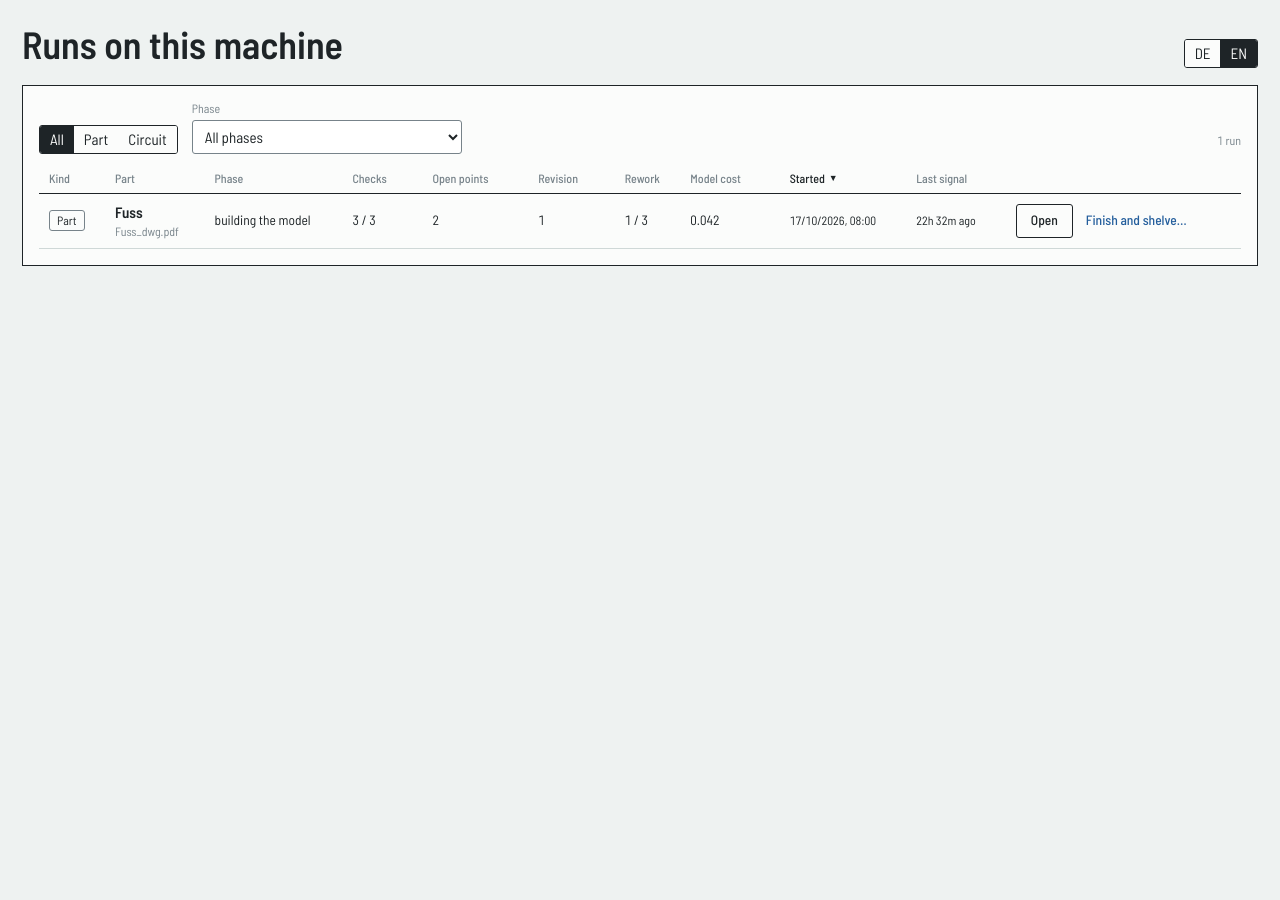
Test case: RunTable on the host: finish and shelve (#52) › does nothing on cancel and shows why shelving failed
Step 1. Click the button with aria-label "Finish and shelve ses-fixture0001" → (1136, 221), box 1079,207 -> 1194,235
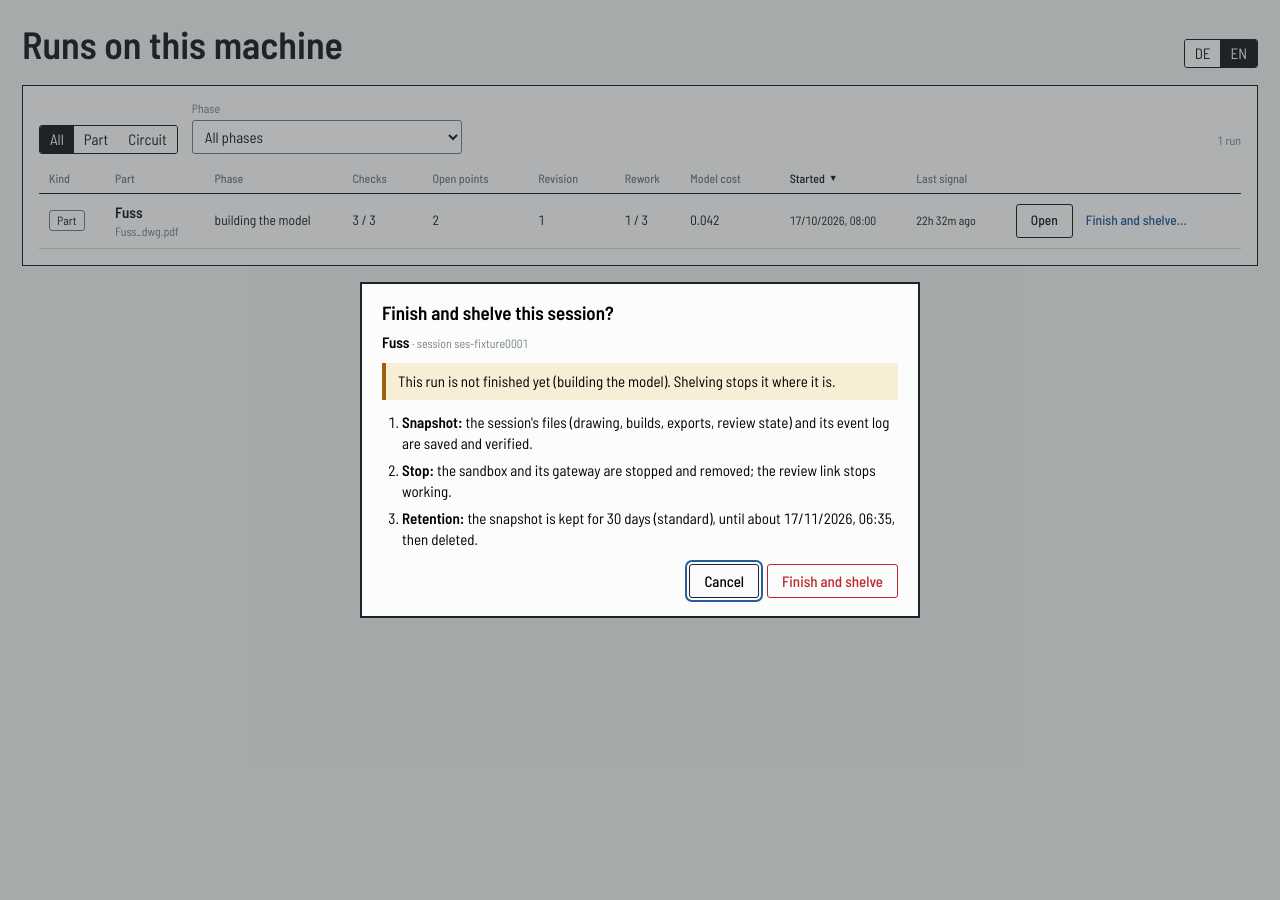
Now the text "This run is not finished yet (building the model). Shelving stops it where it is." is shown, box 398,372 -> 835,390
Step 2. Click the button "Cancel" → (724, 581), box 689,564 -> 759,598
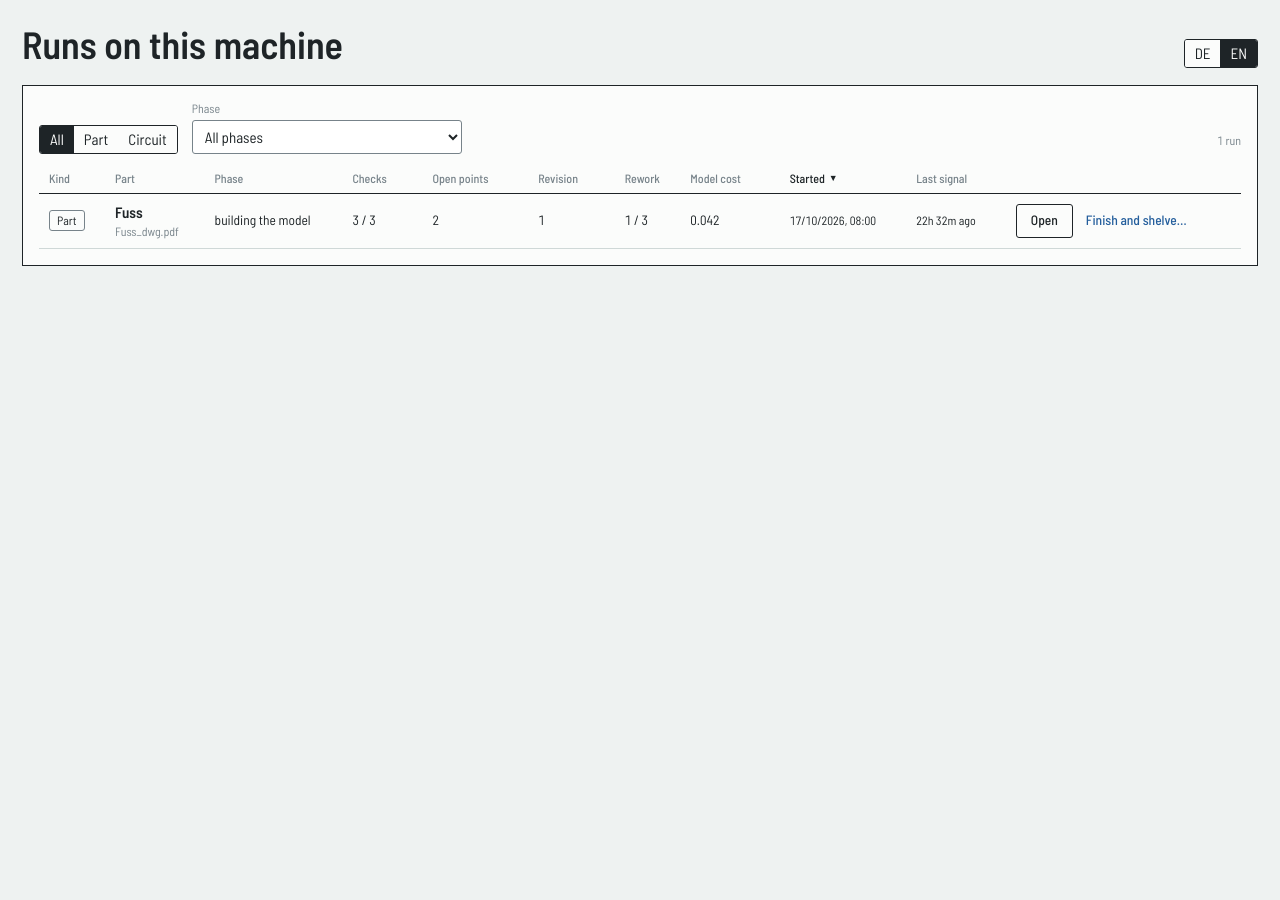
Step 3. Click the button with aria-label "Finish and shelve ses-fixture0001" → (1136, 221), box 1079,207 -> 1194,235
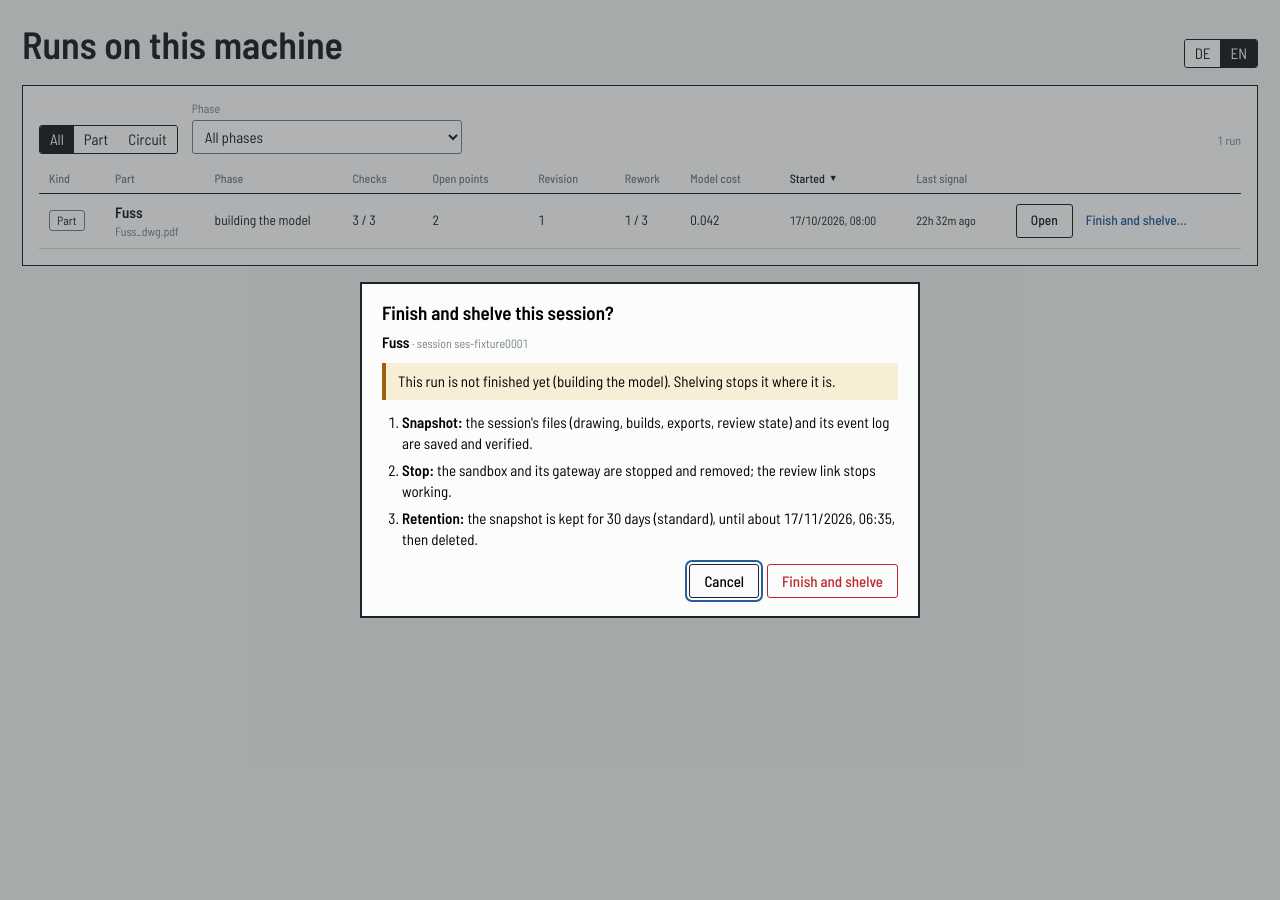
Step 4. Click the button "Finish and shelve" → (832, 581), box 767,564 -> 898,598
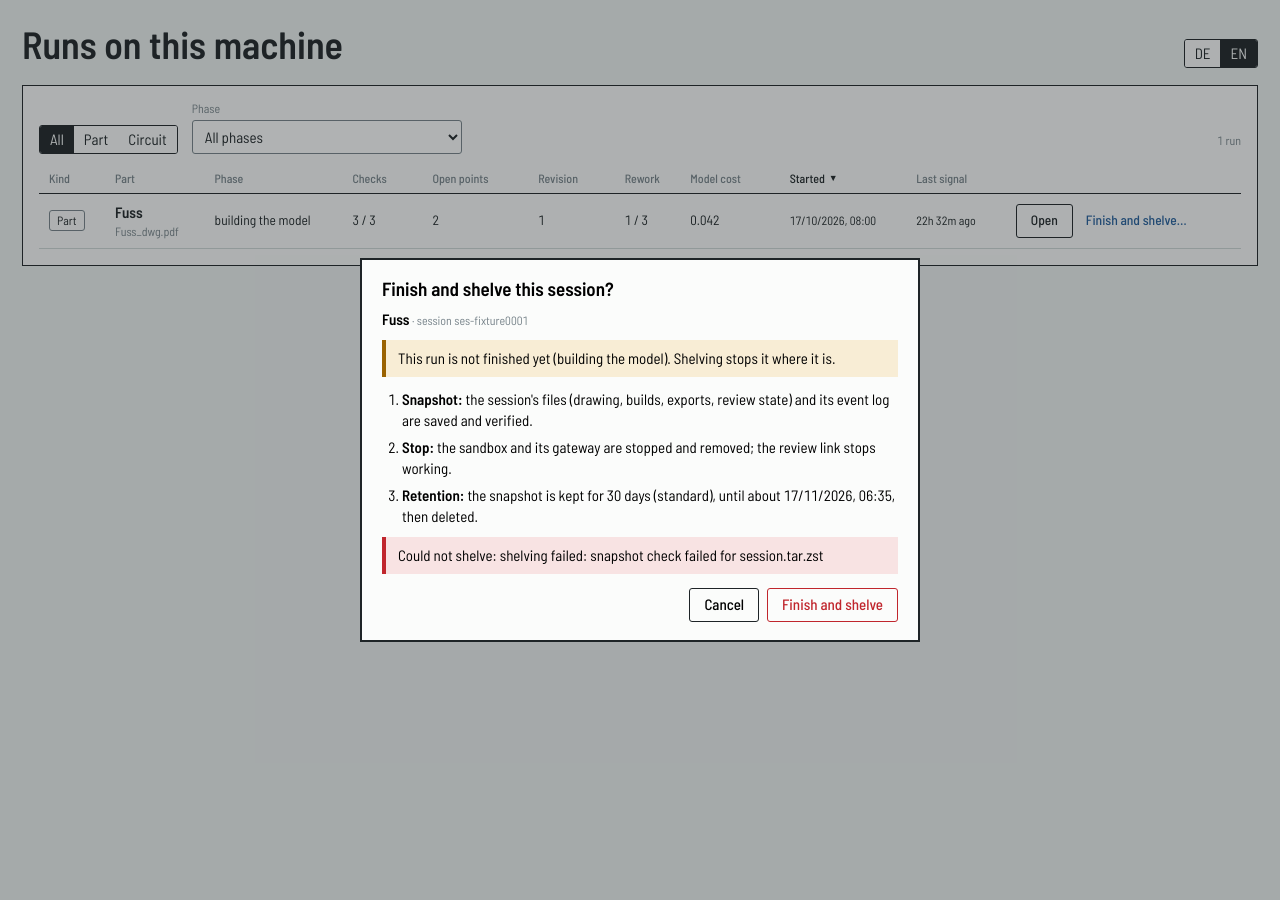
Now the text "Could not shelve: shelving failed: snapshot check failed for session.tar.zst" is shown, box 382,537 -> 898,574
